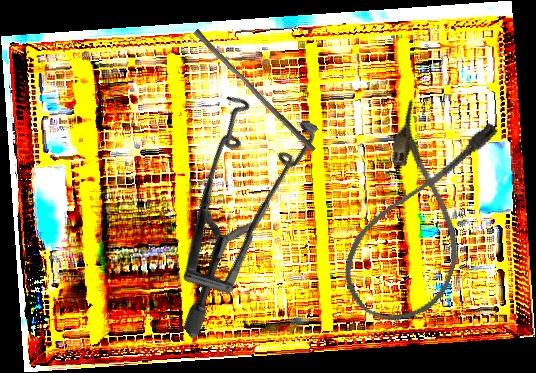Cannula: (331, 93, 506, 337)
Pusher: (189, 28, 321, 153)
Speculum: (88, 64, 378, 343)
